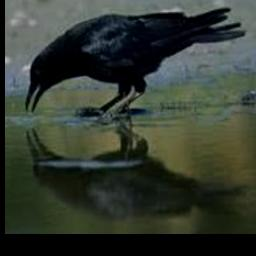Crow: (25, 5, 247, 118)
